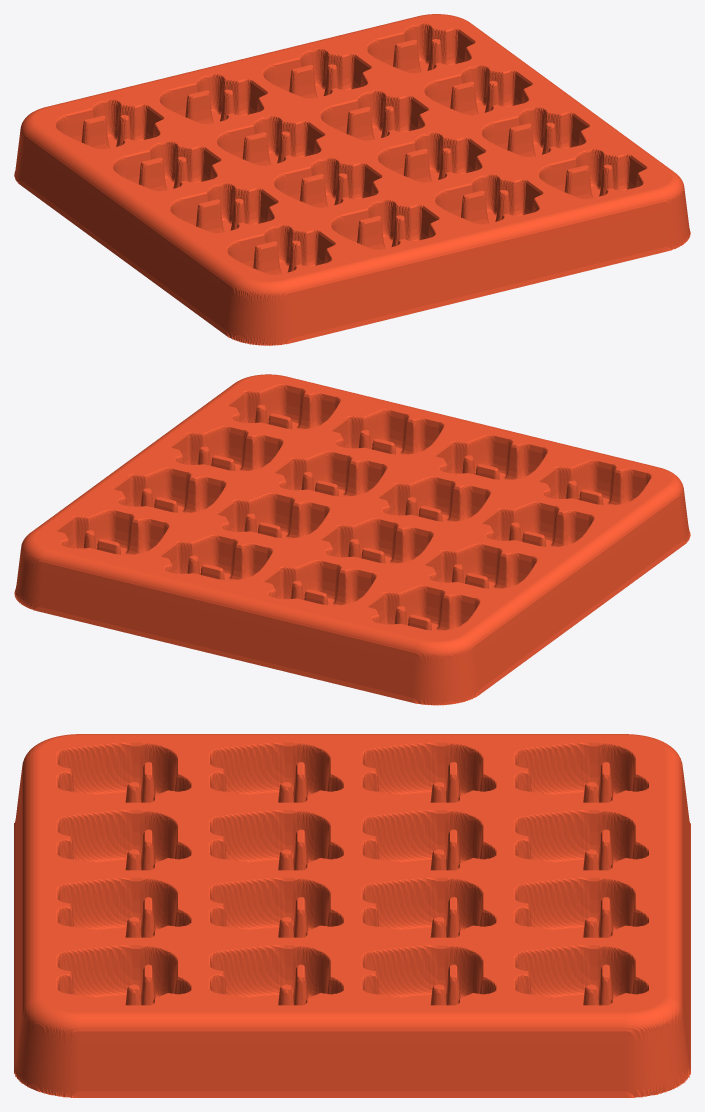
Rendered from mold.glb.
3 views of the same model, one above another, from view 1: azimuth 30°, elevation 25°; view 2: azimuth 150°, elevation 25°; view 3: azimuth 270°, elevation 25° (orthographic). The views are drawn at different scales.
Parts seen in each view (by area): view 1: geometry_0; view 2: geometry_0; view 3: geometry_0.
Part boxes in pixels (left/top/right/bottom): geometry_0: left=14, top=14, right=690, bottom=345; geometry_0: left=14, top=374, right=690, bottom=705; geometry_0: left=14, top=734, right=690, bottom=1097.
Size of the model in its own units: 0.0972 by 0.0114 by 0.0932.
